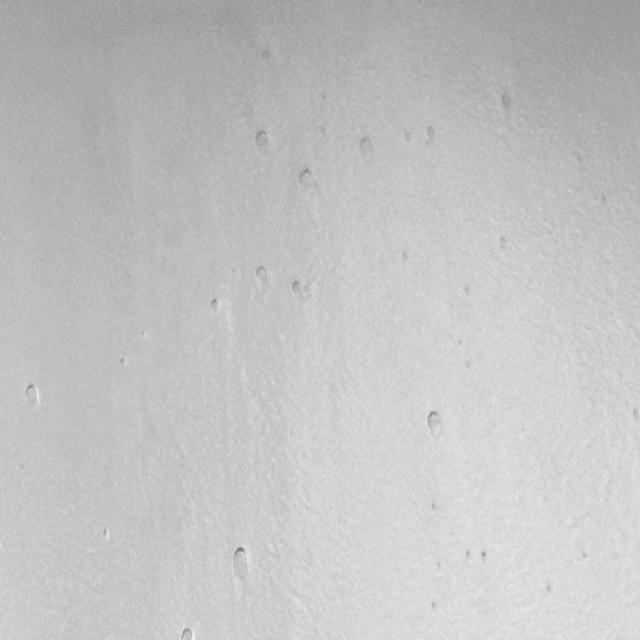pin holes: (228, 545, 253, 584), (422, 409, 446, 441), (21, 382, 44, 414), (495, 90, 517, 122), (250, 263, 273, 292), (358, 135, 380, 164), (250, 128, 274, 154), (295, 167, 317, 193), (422, 122, 441, 150), (287, 278, 308, 302), (398, 126, 418, 148), (258, 43, 277, 66), (208, 294, 227, 316), (458, 281, 477, 302), (397, 248, 415, 270), (498, 234, 514, 252), (179, 626, 199, 640), (544, 581, 558, 597), (464, 547, 476, 565), (429, 598, 442, 614), (117, 356, 130, 372), (99, 526, 111, 543), (480, 548, 492, 564), (580, 548, 592, 564), (630, 406, 639, 424)
